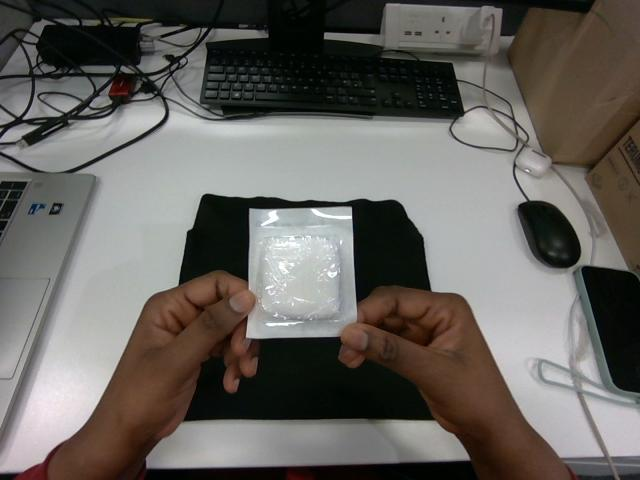gauze: (247, 207, 356, 338)
